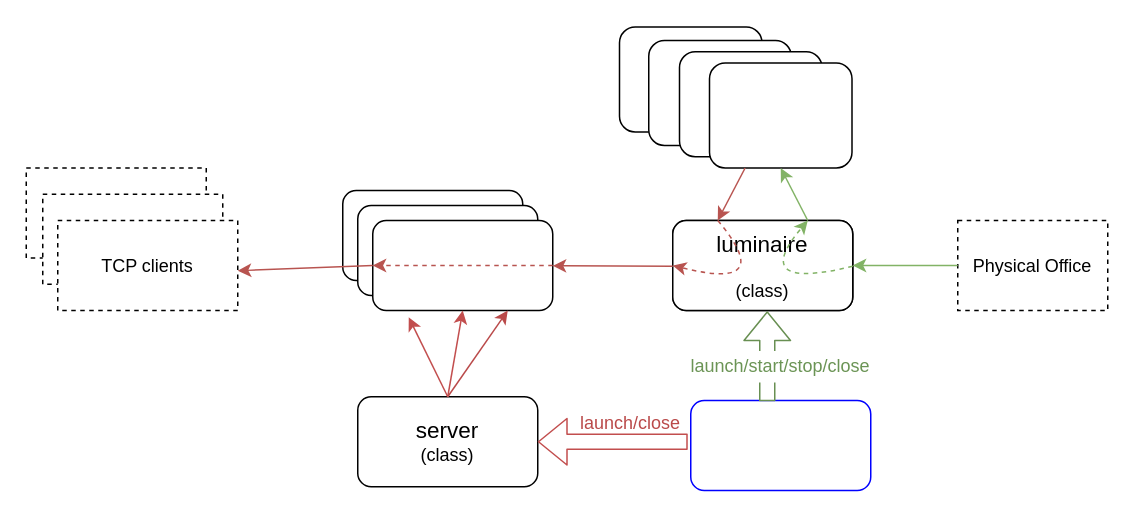
The diagram is 1134 pixels wide and 516 high, and some of its shapes have lost their labels. Here are the shapes that lost their labels. From the top down, the box of each, then its label:
(708, 62, 852, 168): deskDB (class)
(371, 219, 553, 310): session (class)
(689, 399, 871, 490): raspberryPI Console
